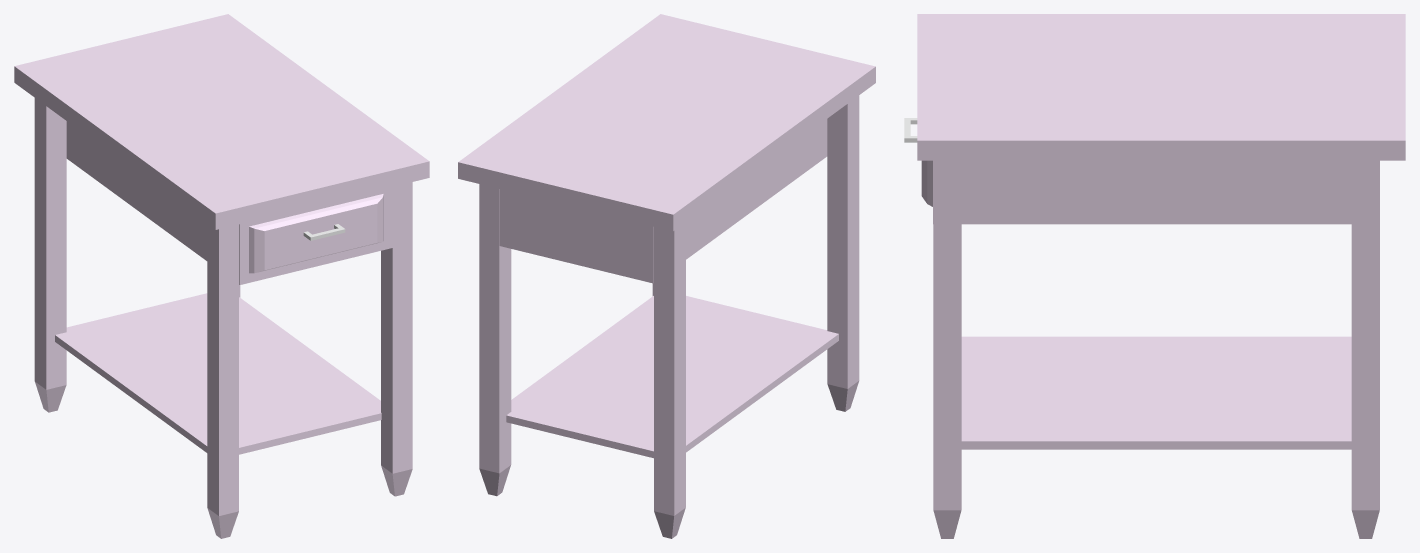
Rendered from end_table_a.fbx.
3 renders of one model, left to right at view 1: azimuth 30°, elevation 25°; view 2: azimuth 150°, elevation 25°; view 3: azimuth 270°, elevation 25°, orthographic. The views are drawn at different scales.
Visible parts, largest first — view 1: end_table_a; view 2: end_table_a; view 3: end_table_a.
Boxes of the visible parts, x1,y1,x2,y2 form: end_table_a: (14, 14, 429, 538); end_table_a: (458, 14, 875, 538); end_table_a: (904, 14, 1405, 538).
Size of the model in its own units: 0.6308 by 0.9474 by 1.06.
